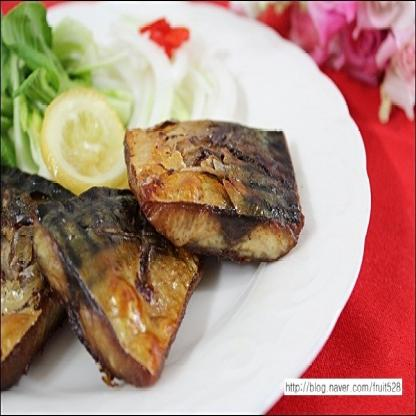Peixe: (0, 116, 325, 382)
